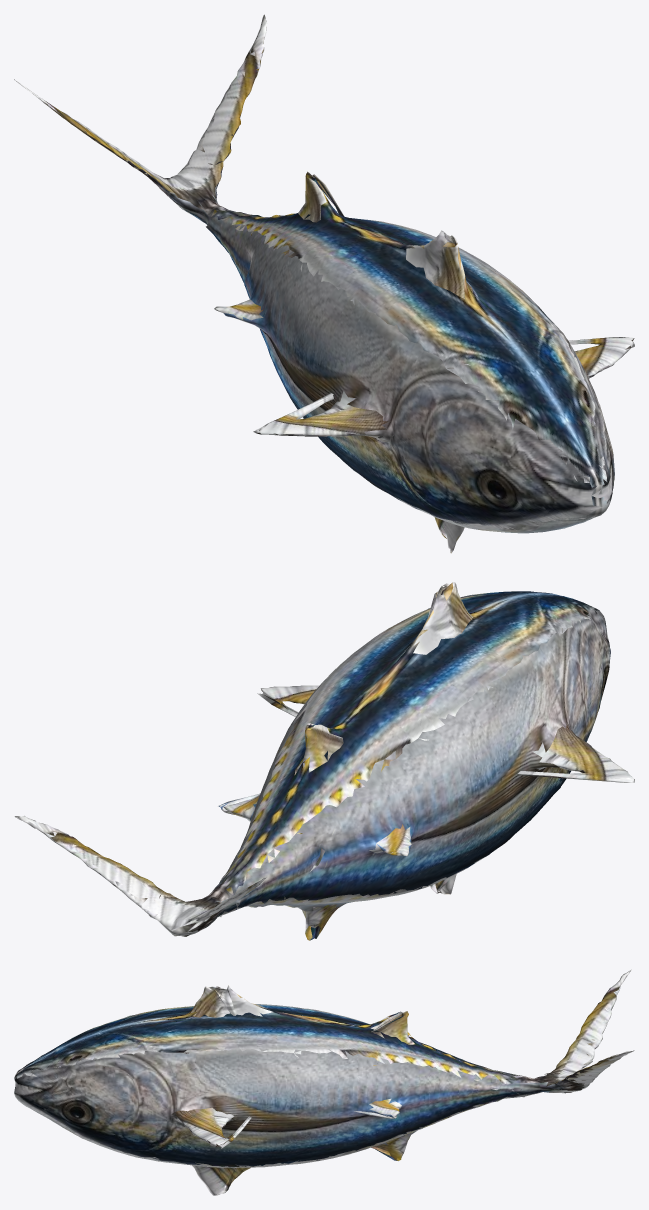
The model's file is fish_bigeye.glb.
3 views of the same model, one above another, from view 1: azimuth 30°, elevation 25°; view 2: azimuth 150°, elevation 25°; view 3: azimuth 270°, elevation 25° (orthographic). The views are drawn at different scales.
Visible parts, largest first — view 1: orient; view 2: orient; view 3: orient.
Boxes of the visible parts, x1,y1,x2,y2 form: orient: [14, 14, 634, 553]; orient: [14, 582, 634, 940]; orient: [14, 969, 634, 1195].
Bounding box in the file's own units: 0.9226 × 0.7264 × 1.93.
1 material, 1 textured.
